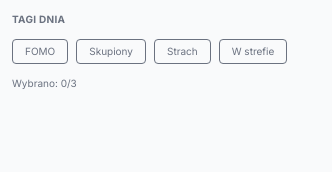
Test case: DayTagSelector › toggles tag on click
The image size is (332, 172).
What coordinates should you click on to do the following:
click the button "FOMO"
I would click on:
 (40, 52)
Its box is [12,39,68,64].
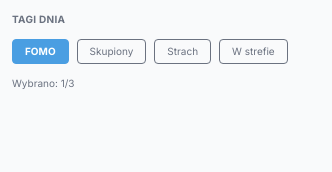
Result: the text "Wybrano: 1/3" is shown at [12,77,74,89]
